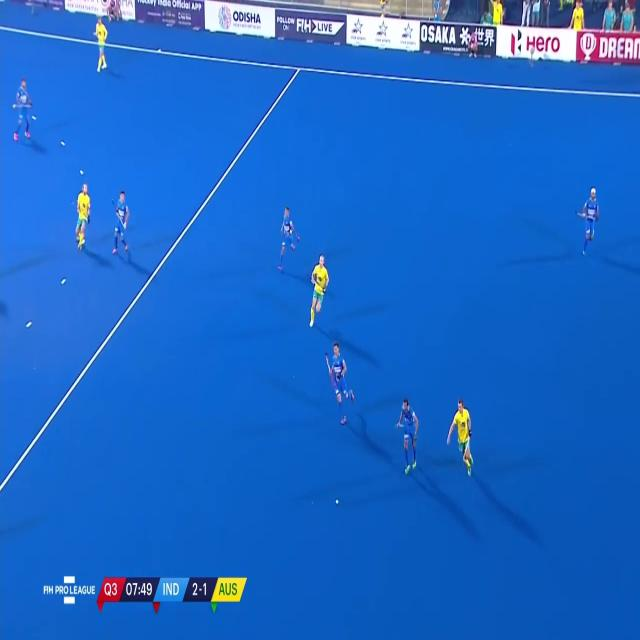ball: (332, 497, 342, 507)
